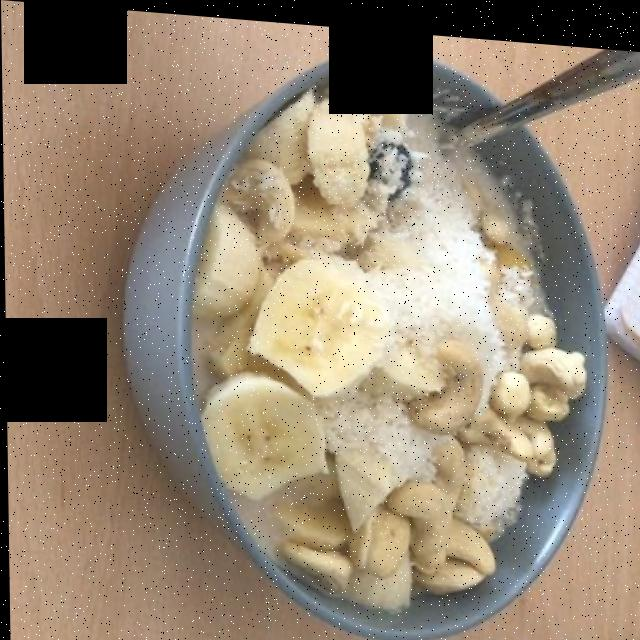banana: (209, 74, 435, 519)
blueberries: (360, 138, 421, 194)
cashew-nut: (291, 192, 580, 613)
coconut: (302, 126, 531, 535)
